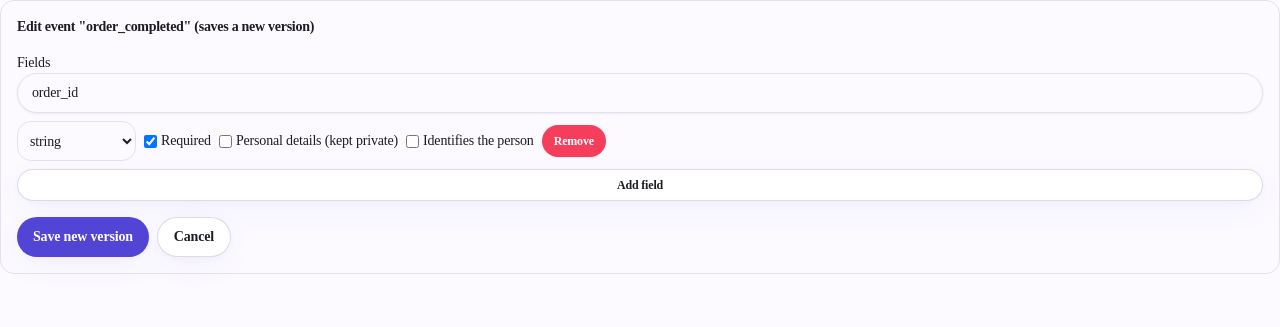
Scenario: EvolveSchemaDefForm › shows the breaking-change violations returned by the API
This screenshot has width=1280, height=327.
Click the button "Save new version" at [83, 237], box x1=17 y1=217 x2=149 y2=257
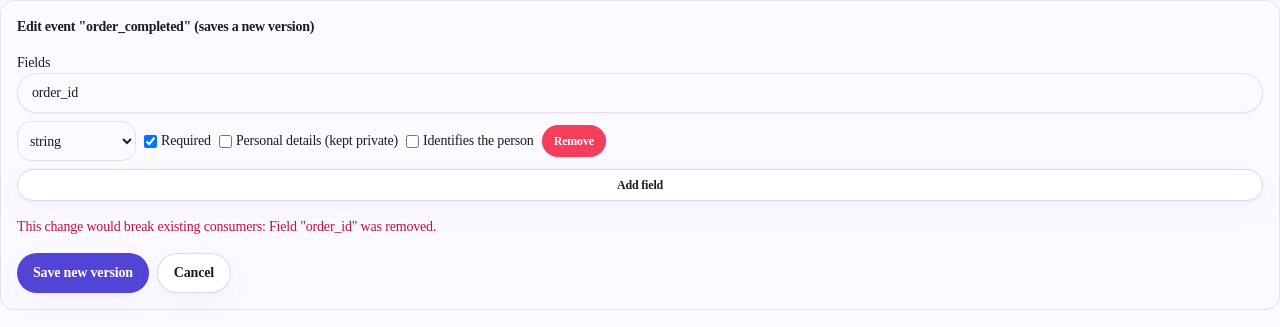
Expected: the message reads "This change would break existing consumers: Field \"order_id\" was removed.", x1=17 y1=219 x2=436 y2=234
